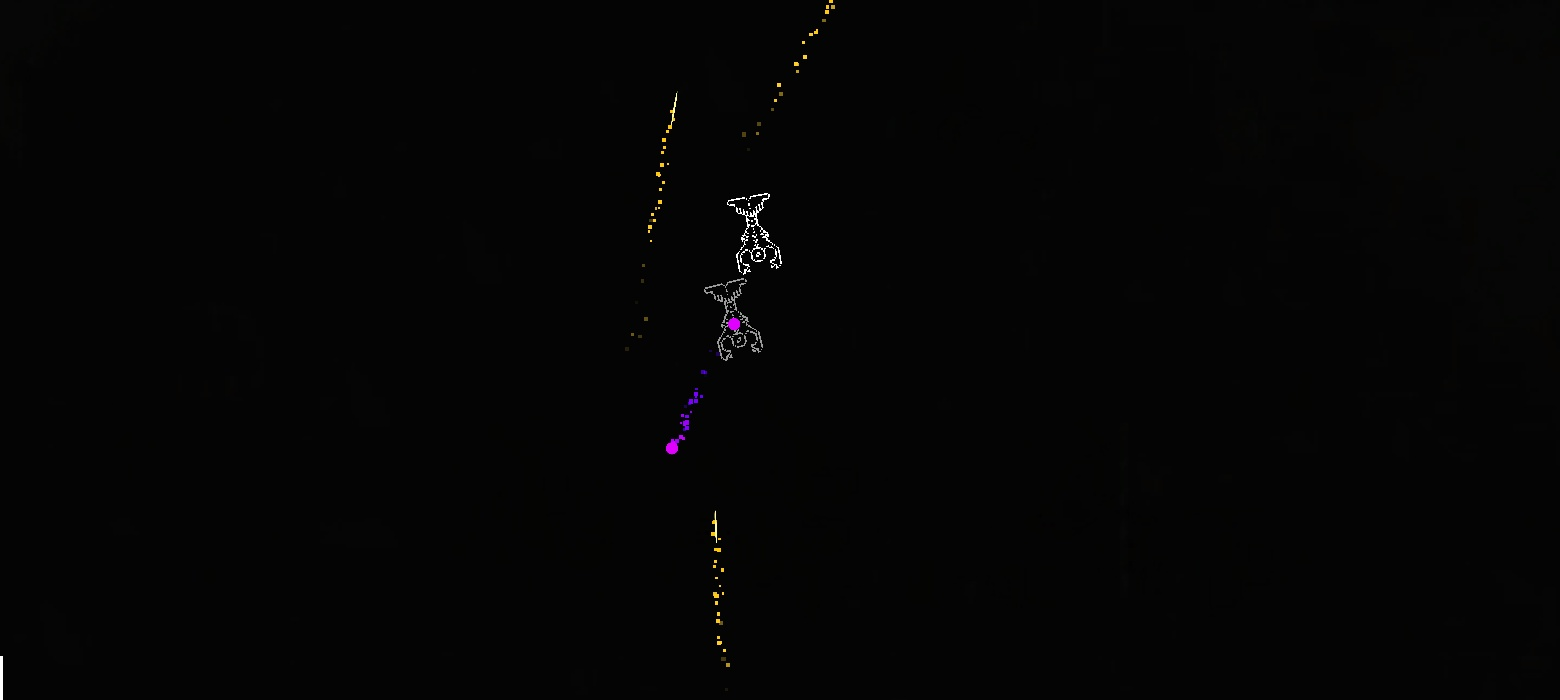enemy: (704, 278, 764, 361), (727, 193, 783, 275)
